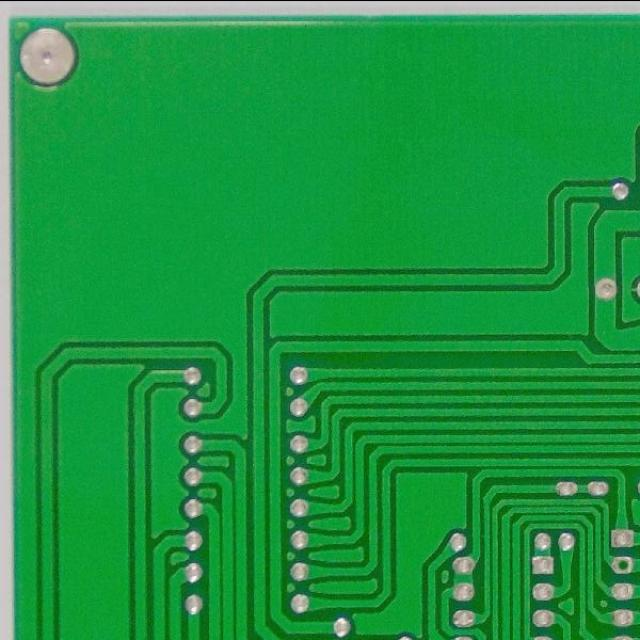missing_hole: (610, 554, 637, 575)
